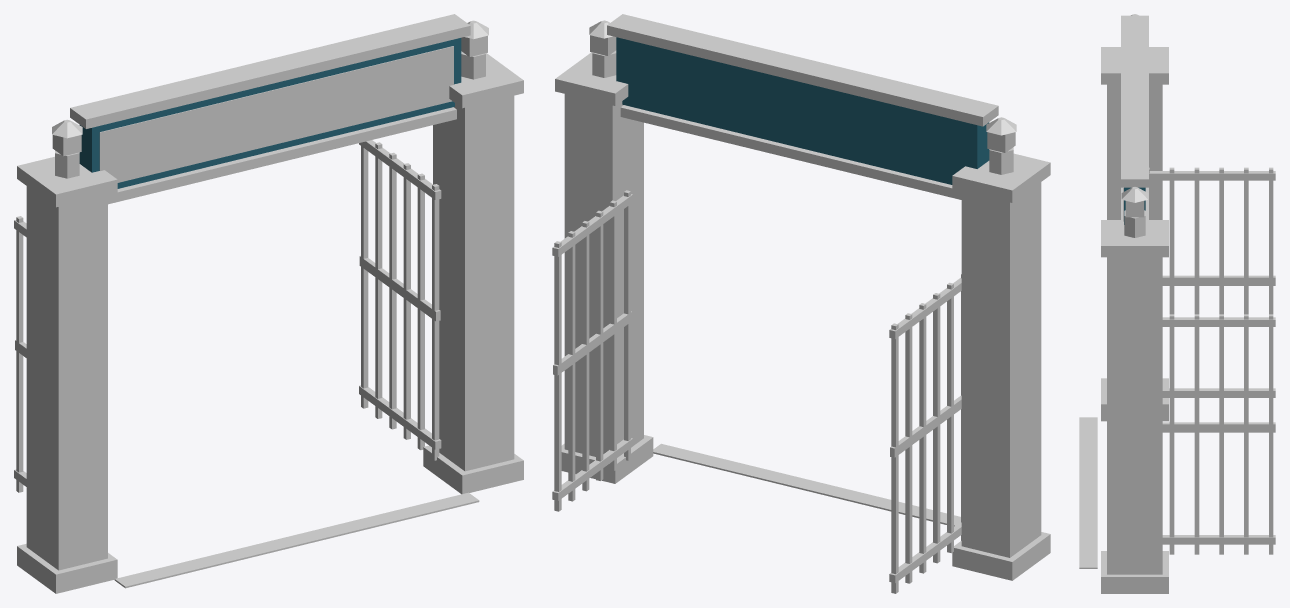
The model's file is decor_factory_gate.obj.
3 views of the same model, side by side, from view 1: azimuth 30°, elevation 25°; view 2: azimuth 150°, elevation 25°; view 3: azimuth 270°, elevation 25° (orthographic). The views are drawn at different scales.
Visible parts, largest first — view 1: Body, Lamp; view 2: Body, Lamp; view 3: Body, Lamp.
Part boxes in pixels (<box>): Body: <box>14,14,523,593</box>; Lamp: <box>52,35,487,156</box>; Body: <box>552,14,1050,593</box>; Lamp: <box>590,35,1015,152</box>; Body: <box>1079,14,1275,593</box>; Lamp: <box>1125,201,1144,217</box>.
Bounding box in the file's own units: 3.04 × 2.83 × 1.27.
